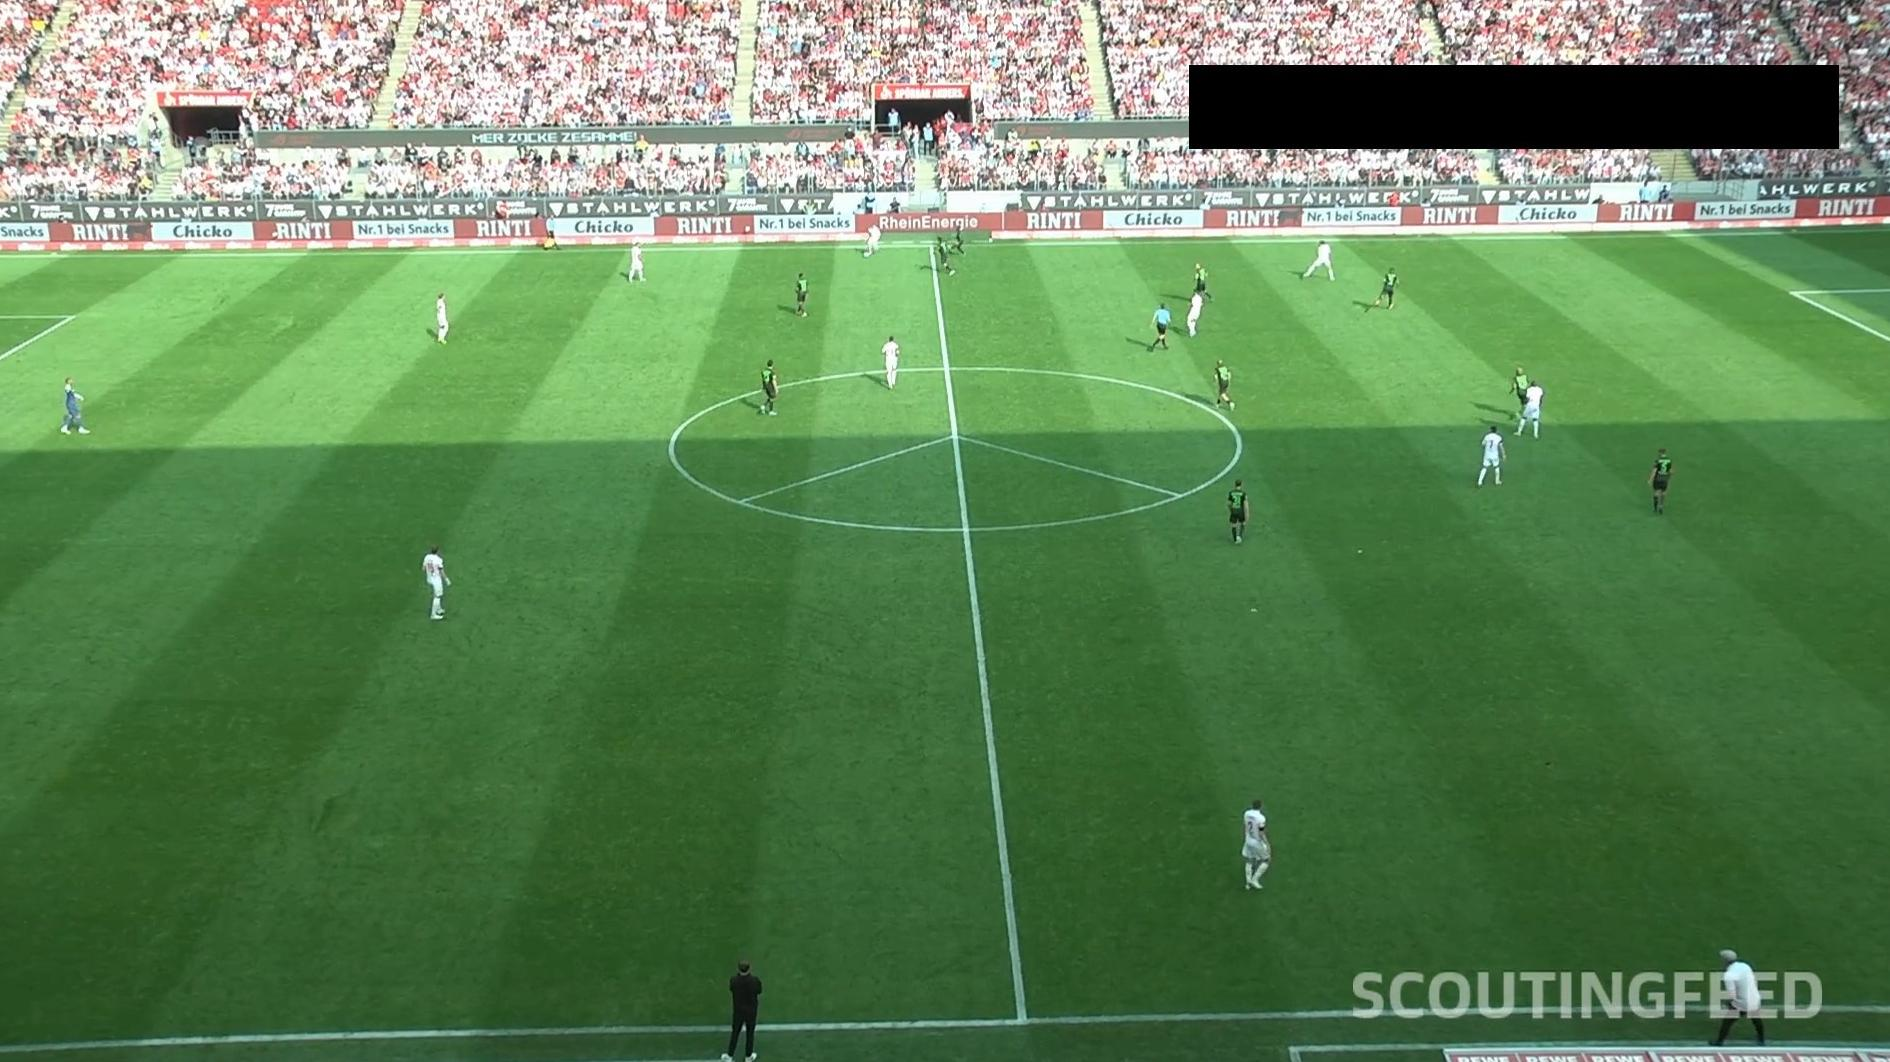ball: (862, 249, 871, 258)
